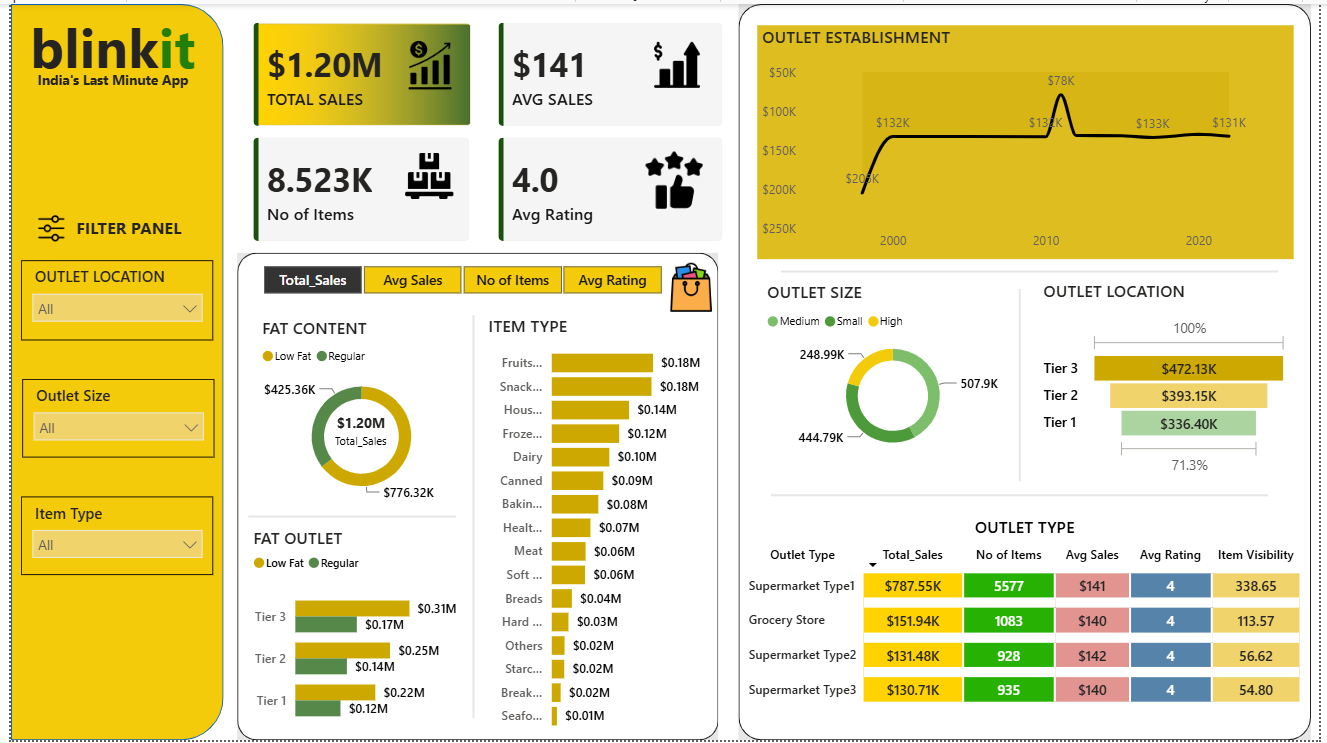

What the dashboard file says about the page in this screenshot:
{"tool":"powerbi","page":{"name":"Home","canvas":[1280,720],"ordinal":0},"visuals":[{"type":"shape","box":[711.7,0,560.1,720.2],"z":0},{"type":"shape","box":[221.3,243.3,470.8,476.9],"z":1000},{"type":"cardVisual","fields":{"Data":["public blinkit.Total_Sales"]},"box":[232.3,13.5,223.8,111.3],"z":2000},{"type":"shape","box":[0,0,207.9,720.2],"z":3000},{"type":"cardVisual","fields":{"Data":["public blinkit.Total_Sales"]},"box":[297.1,388.9,90,56],"z":4000},{"type":"donutChart","title":"FAT CONTENT","fields":{"Y":["public blinkit.Total_Sales"],"Category":["public blinkit.Item Fat Content"]},"box":[240.9,305.7,204.2,188.3],"z":5000},{"type":"slicer","fields":{"Values":["Metrics.Metrics"]},"box":[221.3,249.5,439,40.4],"z":6000},{"type":"clusteredBarChart","title":"FAT OUTLET","fields":{"Y":["public blinkit.Total_Sales"],"Category":["public blinkit.Outlet Location Type"],"Series":["public blinkit.Item Fat Content"]},"box":[232.3,511.1,209.1,209.1],"z":7000},{"type":"barChart","title":"ITEM TYPE","fields":{"Y":["public blinkit.Total_Sales"],"Category":["public blinkit.Item Type"]},"box":[462.2,303.3,217.7,417],"z":8000},{"type":"lineChart","title":"OUTLET ESTABLISHMENT","fields":{"Category":["public blinkit.Outlet Establishment Year"],"Y":["public blinkit.Total_Sales"]},"box":[730,20.8,524.6,228.7],"z":9000},{"type":"donutChart","title":"OUTLET SIZE","fields":{"Y":["Sum(public blinkit.Total Sales)"],"Category":["public blinkit.Outlet Size"]},"box":[734.9,270.2,256,177],"z":10000},{"type":"funnel","title":"OUTLET LOCATION","fields":{"Y":["Sum(public blinkit.Total Sales)"],"Category":["public blinkit.Outlet Location Type"]},"box":[1005.2,269,249.5,195.7],"z":11000},{"type":"pivotTable","title":"OUTLET TYPE","fields":{"Rows":["public blinkit.Outlet Type"],"Values":["public blinkit.Total_Sales","public blinkit.No of Items","public blinkit.Avg Sales","public blinkit.Avg Rating","Sum(public blinkit.Item Visibility)"]},"box":[711.7,500.1,560.1,209.1],"z":12000},{"type":"slicer","fields":{"Values":["public blinkit.Outlet Location Type"]},"box":[9.8,250.7,188.3,78.3],"z":13000},{"type":"slicer","fields":{"Values":["public blinkit.Item Type"]},"box":[9.8,481.8,188.3,77],"z":14000},{"type":"textbox","box":[0,0,199.3,84.4],"z":15000},{"type":"textbox","box":[12.2,59.9,174.9,33],"z":16000},{"type":"textbox","box":[55,203,121.1,34.2],"z":17000},{"type":"image","box":[12.2,206.7,55,25.7],"z":18000},{"type":"image","box":[384,35.5,51.4,48.9],"z":19000},{"type":"cardVisual","fields":{"Data":["public blinkit.Avg Sales"]},"box":[472,13.5,229.9,111.3],"z":20000},{"type":"cardVisual","fields":{"Data":["public blinkit.No of Items"]},"box":[232.3,126,221.3,111.3],"z":21000},{"type":"cardVisual","fields":{"Data":["public blinkit.Avg Rating"]},"box":[472,126,229.9,111.3],"z":22000},{"type":"shape","box":[743.5,467.1,486.7,26.9],"z":23000},{"type":"shape","box":[434.1,304.5,36.7,393.8],"z":24000},{"type":"shape","box":[753.3,237.2,486.7,48.9],"z":25000},{"type":"shape","box":[232.3,486.7,203,29.3],"z":26000},{"type":"shape","box":[968.5,278.8,36.7,188.3],"z":27000},{"type":"image","box":[623.6,35.5,56.3,47.7],"z":28000},{"type":"image","box":[384,144.3,50.1,47.7],"z":29000},{"type":"image","box":[617.5,144.3,62.4,56.3],"z":30000},{"type":"image","box":[628.5,253.1,73.4,47.7],"z":31000},{"type":"slicer","fields":{"Values":["public blinkit.Outlet Size"]},"box":[11,366.8,188.3,77],"z":32000}]}

Visuals, with their boxes in screenshot pixels (x1, y1, x2, y2), scaled from the page's 1280x720 canvas onto the 1327x743 screenshot:
shape: x1=738, y1=0, x2=1318, y2=742
shape: x1=229, y1=251, x2=718, y2=742
cardVisual - public blinkit.Total_Sales: x1=241, y1=14, x2=473, y2=129
shape: x1=0, y1=0, x2=216, y2=742
cardVisual - public blinkit.Total_Sales: x1=308, y1=401, x2=401, y2=459
"FAT CONTENT" donutChart: x1=250, y1=315, x2=461, y2=510
slicer - Metrics.Metrics: x1=229, y1=257, x2=685, y2=299
"FAT OUTLET" clusteredBarChart: x1=241, y1=527, x2=458, y2=742
"ITEM TYPE" barChart: x1=479, y1=313, x2=705, y2=742
"OUTLET ESTABLISHMENT" lineChart: x1=757, y1=21, x2=1301, y2=257
"OUTLET SIZE" donutChart: x1=762, y1=279, x2=1027, y2=461
"OUTLET LOCATION" funnel: x1=1042, y1=278, x2=1301, y2=480
"OUTLET TYPE" pivotTable: x1=738, y1=516, x2=1318, y2=732
slicer - public blinkit.Outlet Location Type: x1=10, y1=259, x2=205, y2=340
slicer - public blinkit.Item Type: x1=10, y1=497, x2=205, y2=577
textbox: x1=0, y1=0, x2=207, y2=87
textbox: x1=13, y1=62, x2=194, y2=96
textbox: x1=57, y1=209, x2=183, y2=245
image: x1=13, y1=213, x2=70, y2=240
image: x1=398, y1=37, x2=451, y2=87
cardVisual - public blinkit.Avg Sales: x1=489, y1=14, x2=728, y2=129
cardVisual - public blinkit.No of Items: x1=241, y1=130, x2=470, y2=245
cardVisual - public blinkit.Avg Rating: x1=489, y1=130, x2=728, y2=245
shape: x1=771, y1=482, x2=1275, y2=510
shape: x1=450, y1=314, x2=488, y2=721
shape: x1=781, y1=245, x2=1286, y2=295
shape: x1=241, y1=502, x2=451, y2=532
shape: x1=1004, y1=288, x2=1042, y2=482
image: x1=646, y1=37, x2=705, y2=86
image: x1=398, y1=149, x2=450, y2=198
image: x1=640, y1=149, x2=705, y2=207
image: x1=652, y1=261, x2=728, y2=310
slicer - public blinkit.Outlet Size: x1=11, y1=379, x2=207, y2=458
